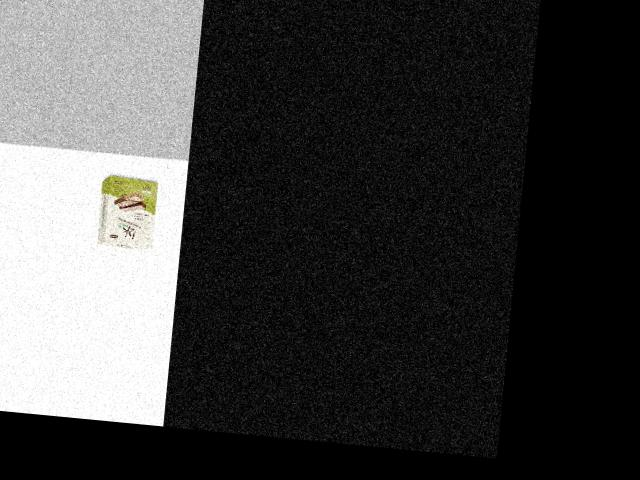chocolate: (92, 170, 165, 252)
